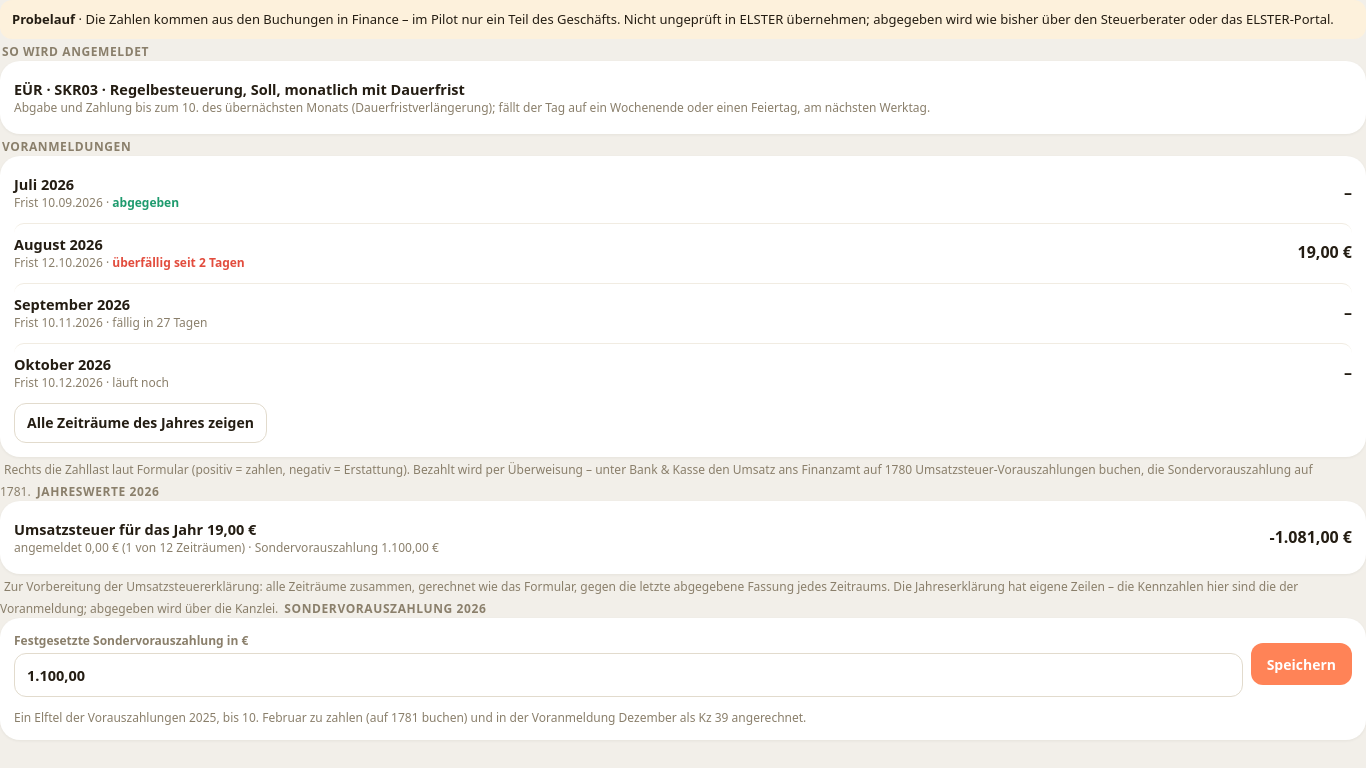
Test: FinanceSteuern › Formular und Abgabe festhalten
Click the text "August 2026" at (58, 244), box 14,234 -> 103,254
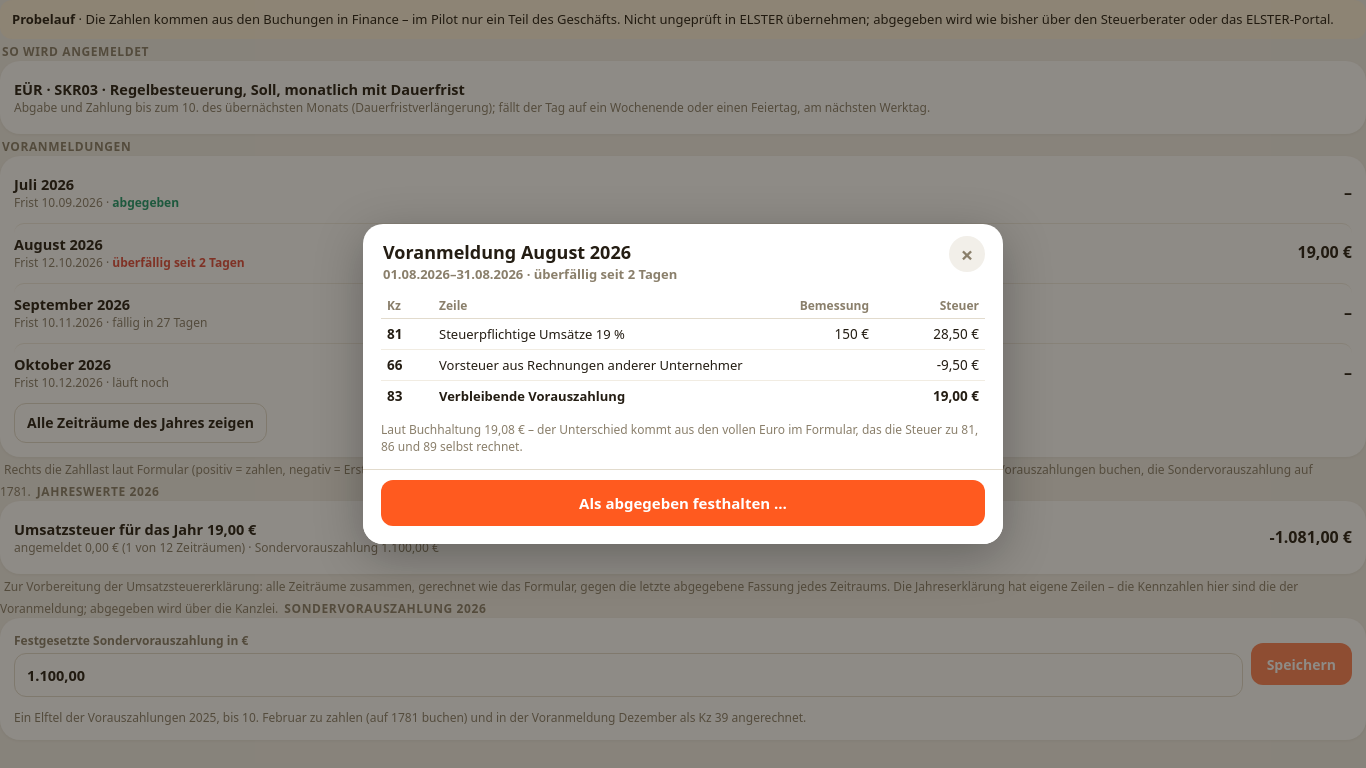
Expected: the text "Steuerpflichtige Umsätze 19 %" reads "81 Steuerpflichtige Umsätze 19 % 150 € 28,50 €", 381,318 -> 985,350
Click the button "Als abgegeben festhalten …" at (683, 503), box 381,480 -> 985,526
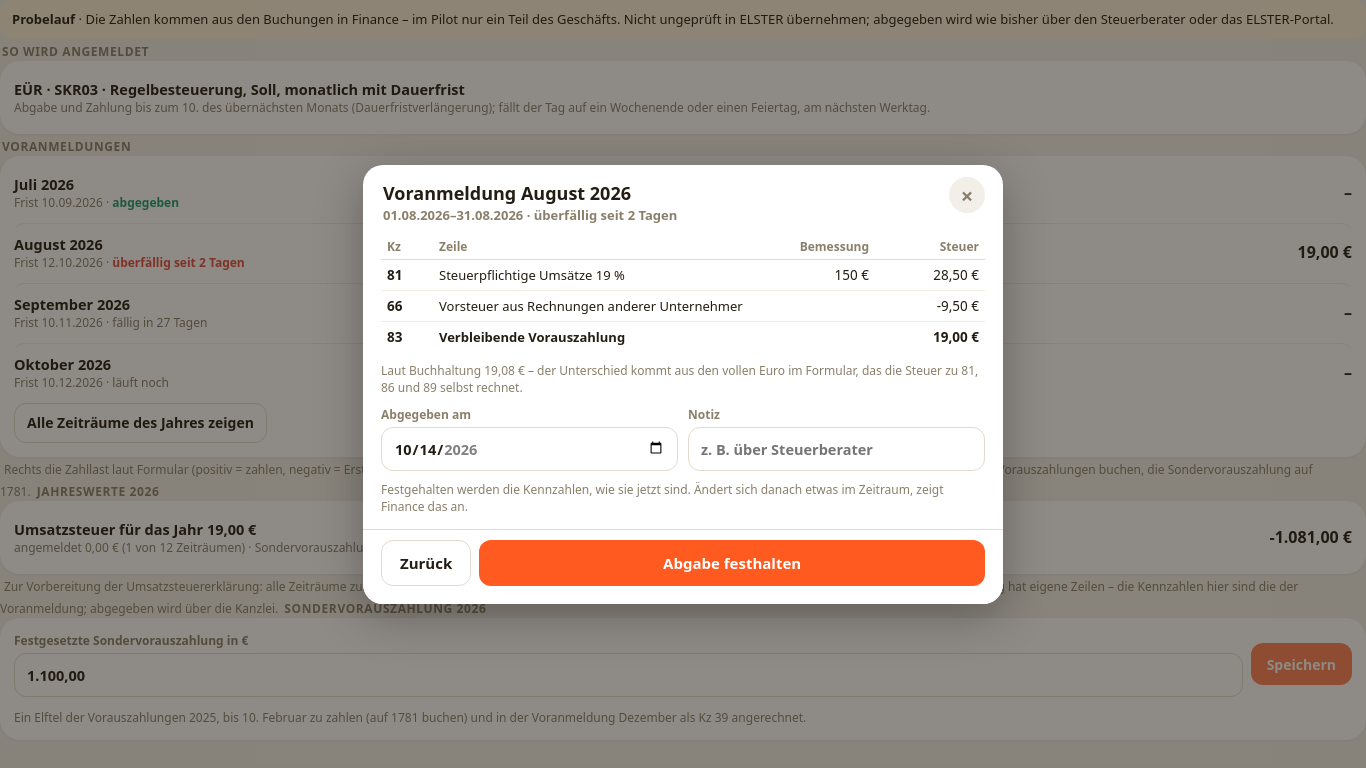
Type "ELSTER" into the field with placeholder "z. B. über Steuerberater" at (836, 448), box 688,426 -> 985,470
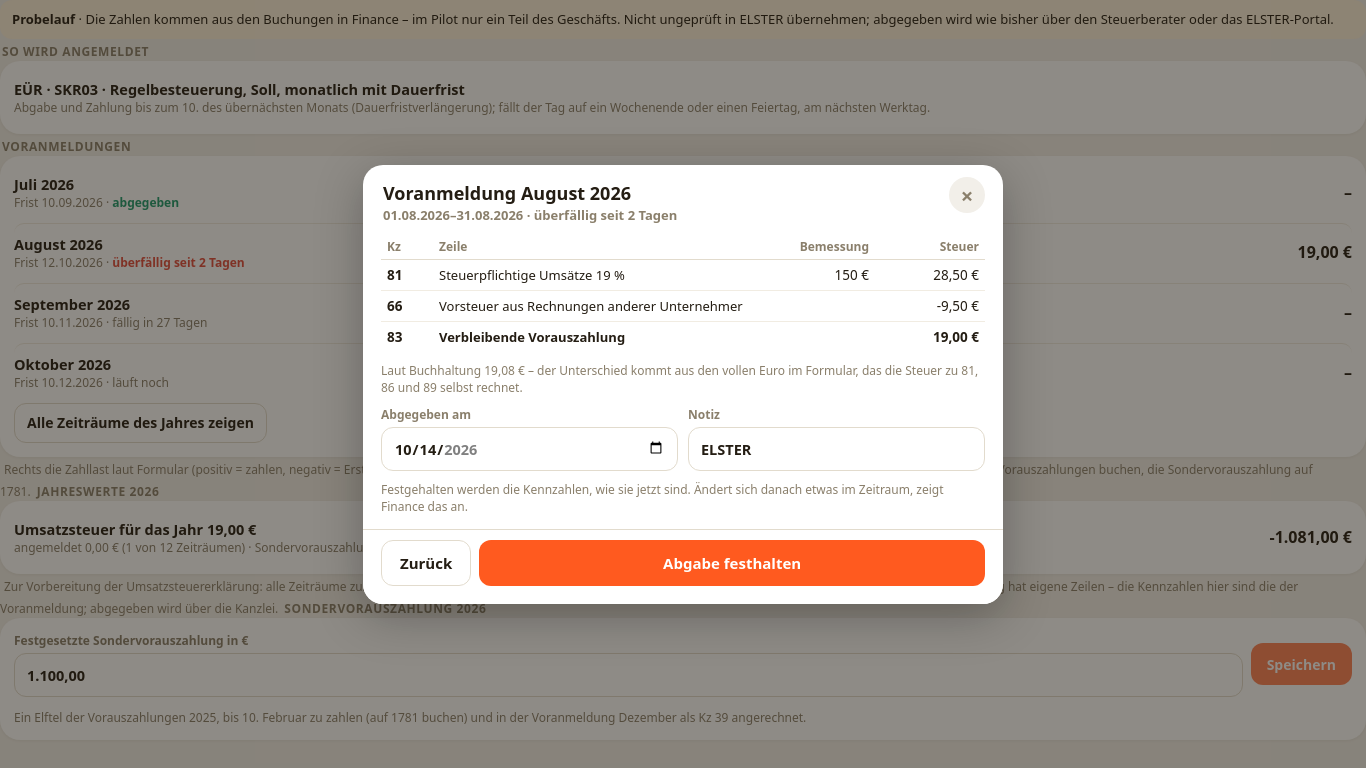
Click the button "Abgabe festhalten" at (732, 562), box 479,540 -> 985,586
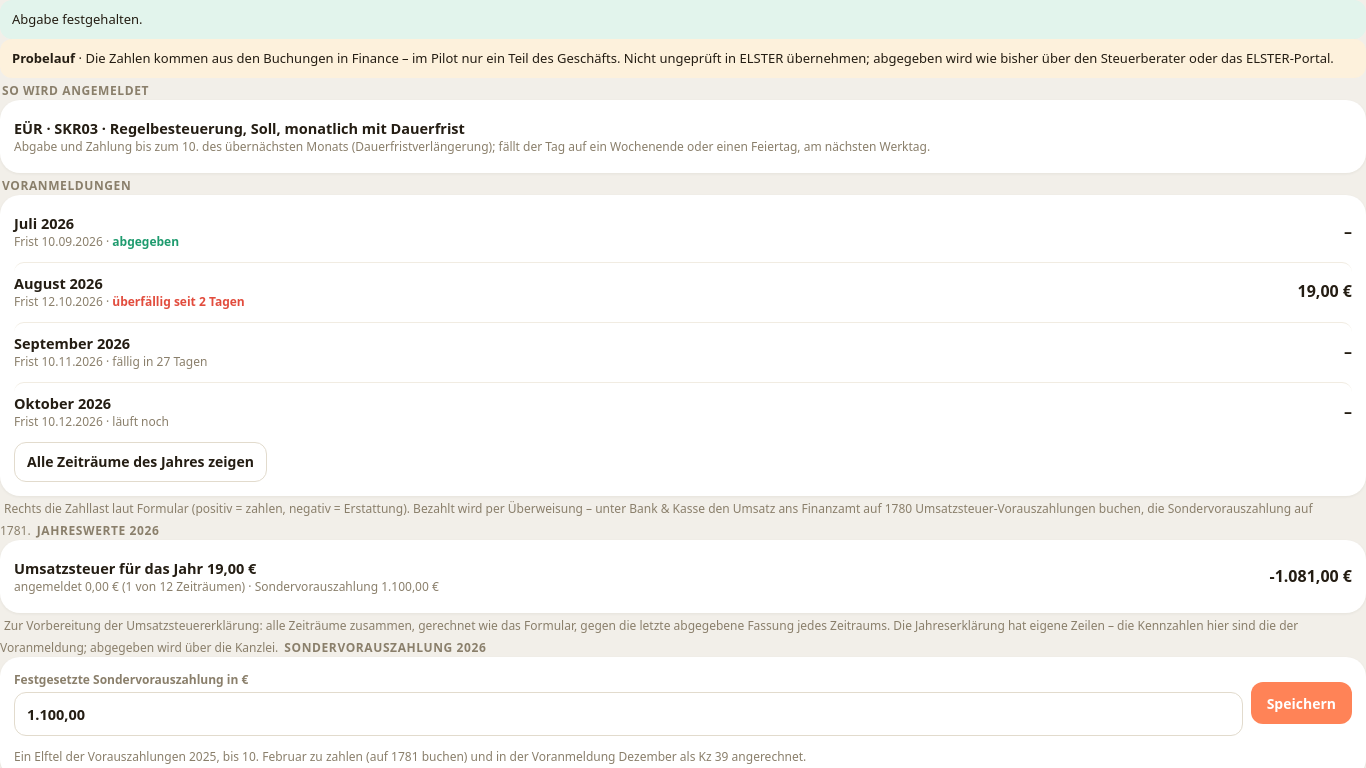
Expected: the text "Abgabe festgehalten." is shown, 0,0 -> 1365,39
